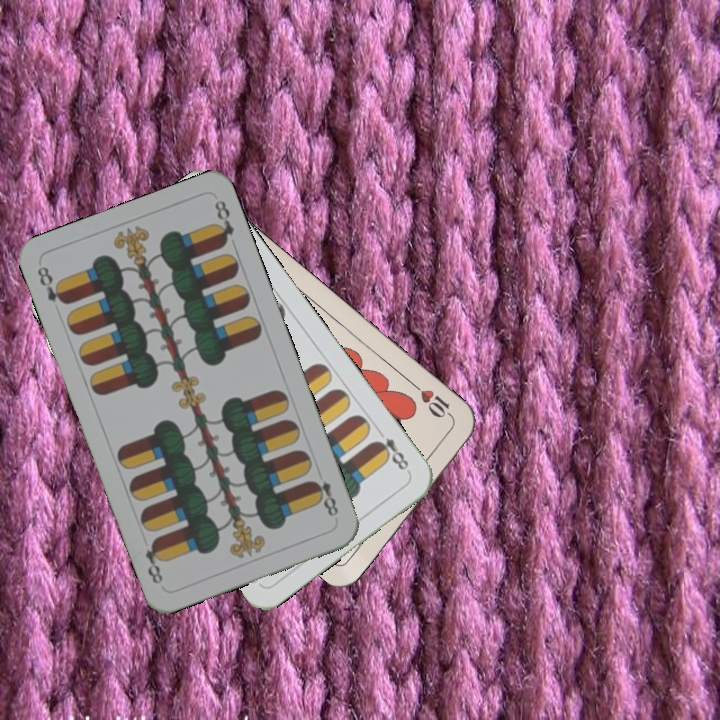E8: (370, 424, 413, 476), (33, 262, 70, 307), (307, 476, 341, 519)
H10: (409, 379, 457, 424)
